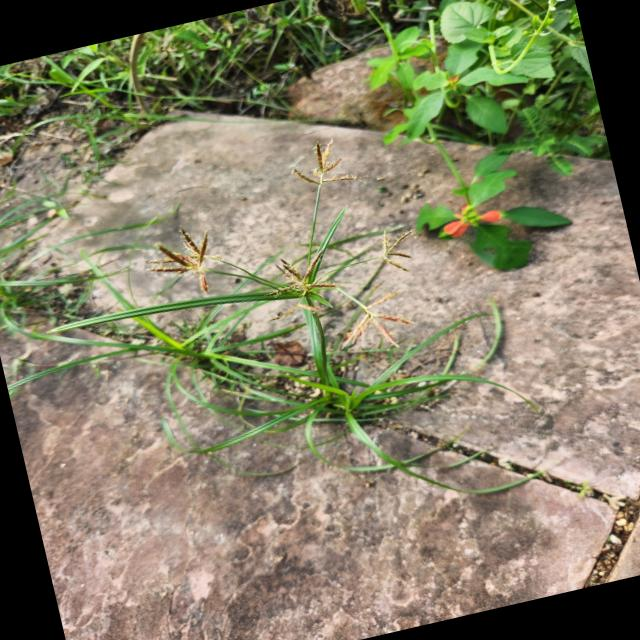cyperus: (130, 114, 453, 408), (132, 205, 238, 311), (328, 282, 426, 366), (260, 244, 348, 336), (277, 124, 371, 205), (367, 218, 433, 291)
